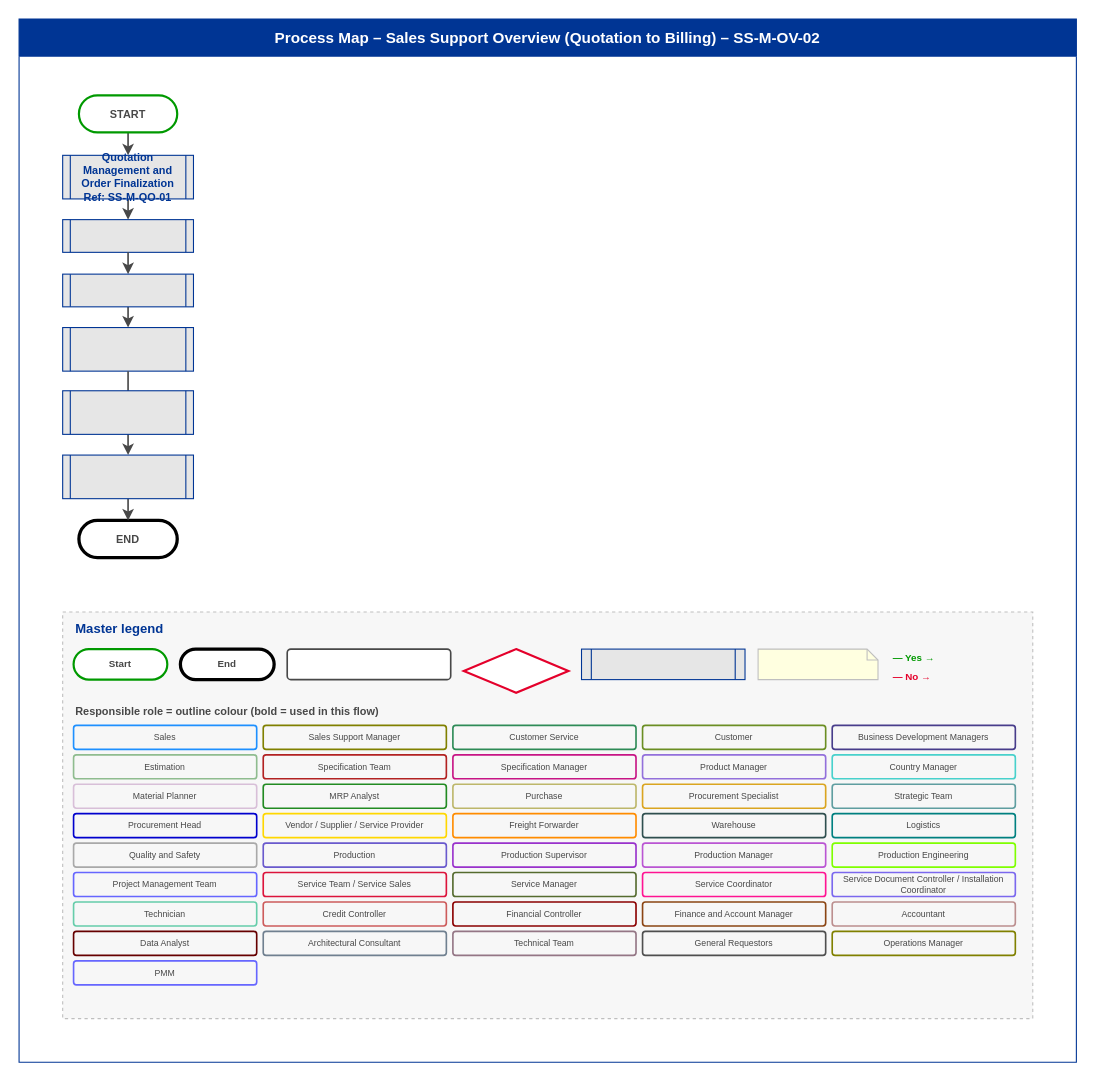
Image size: 1095x1081. Some labels were removed from this diagram. Here are the shapes that lost their labels. From the top down, the centre of each, then its label:
point 127,235: Order Confirmation Ref: SS-M-OC-01
point 127,290: Procurement Initiation Ref: SS-M-PC-01
point 127,348: Order Management and Resource Planning Ref: SS-M-OM-01
point 127,412: Order Fulfillment and Delivery Invoice Ref: SS-M-OF-01
point 127,476: Installation and Billing Verification Ref: SS-M-IB-01
point 368,664: Activity (outline = role)
point 515,670: Decision
point 662,664: Linked process (Ref ID)
point 817,664: Note / checklist
